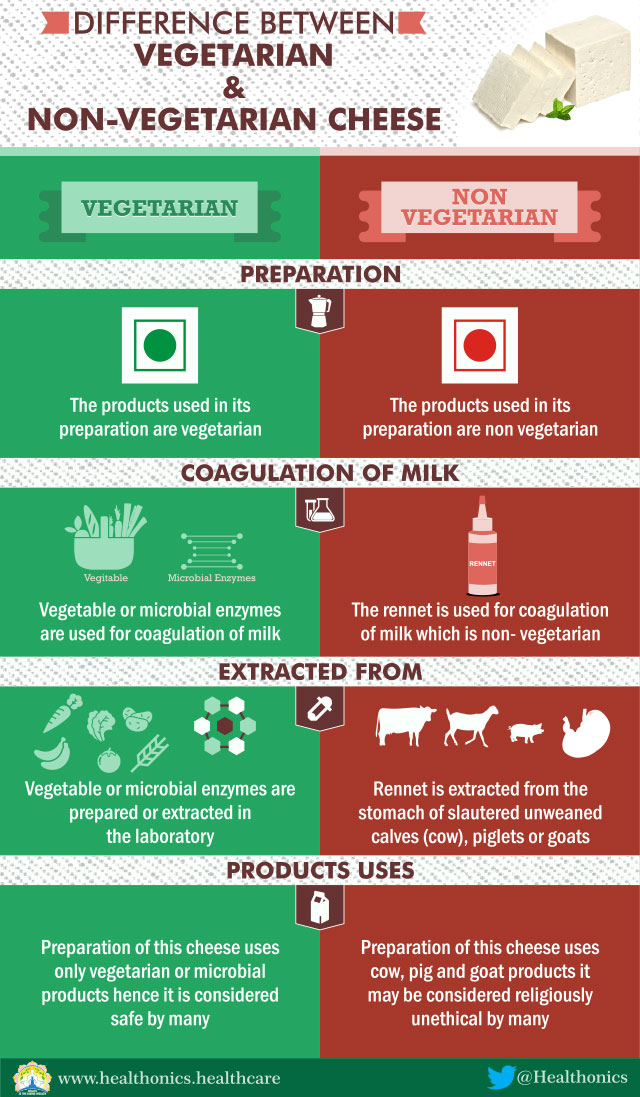nonveg_red: (451, 317, 509, 374)
